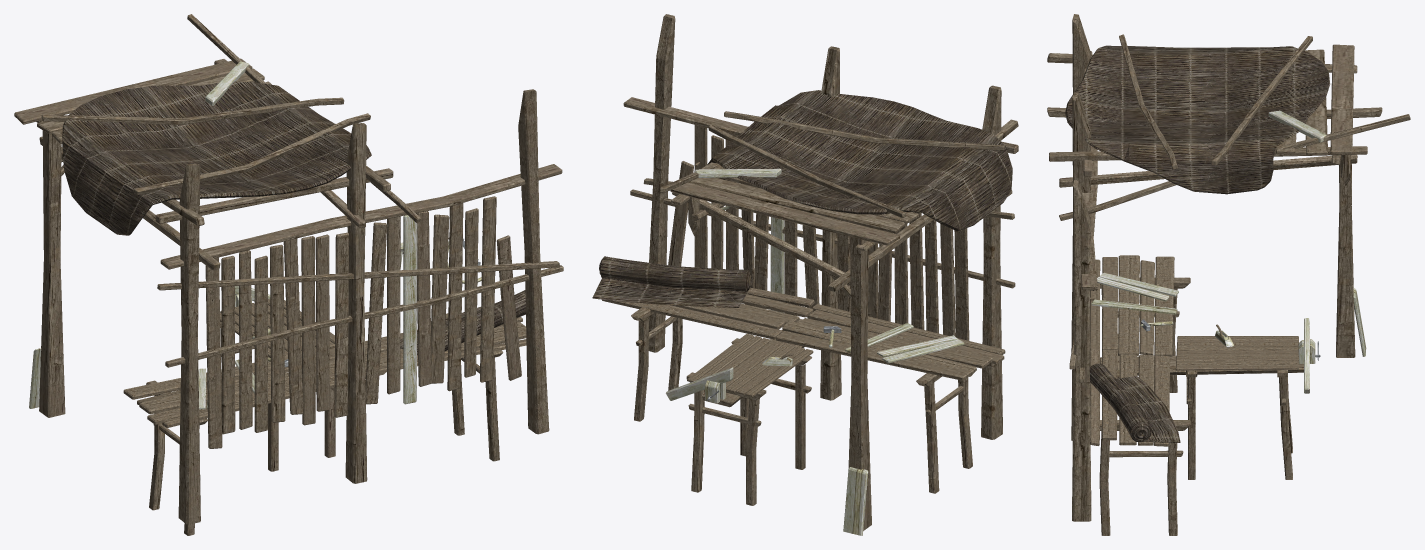
Rendered from TW2_1_HUT_01_2-transformed.glb.
The picture shows the model from 3 angles, left to right: view 1: azimuth 30°, elevation 25°; view 2: azimuth 150°, elevation 25°; view 3: azimuth 270°, elevation 25°; orthographic projection. The views are drawn at different scales.
Visible parts, largest first — view 1: default; view 2: default; view 3: default.
Part boxes in pixels (x1,y1,x2,y2): default: (14,14,563,535); default: (592,14,1018,535); default: (1047,14,1410,535).
Bounding box in the file's own units: 6.18 × 5.43 × 4.85.
Materials: 4 (4 with a texture image).
